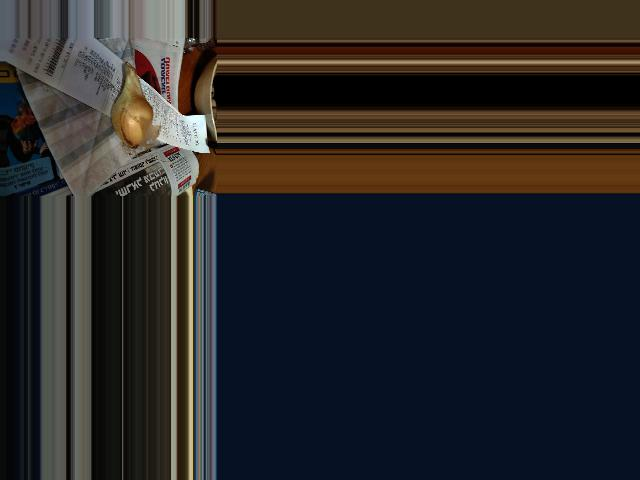onion: (111, 71, 153, 149)
